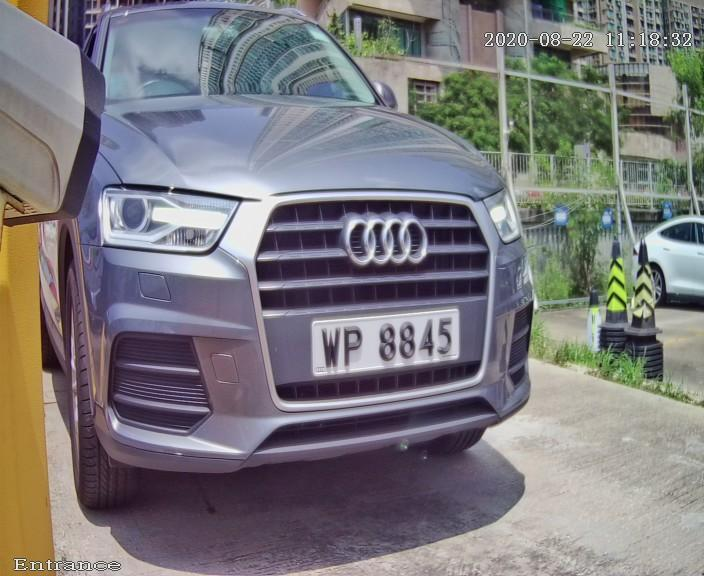License Plate: (294, 288, 474, 389)
